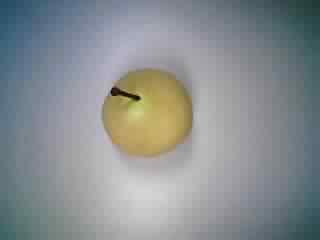pear: (94, 57, 201, 169)
